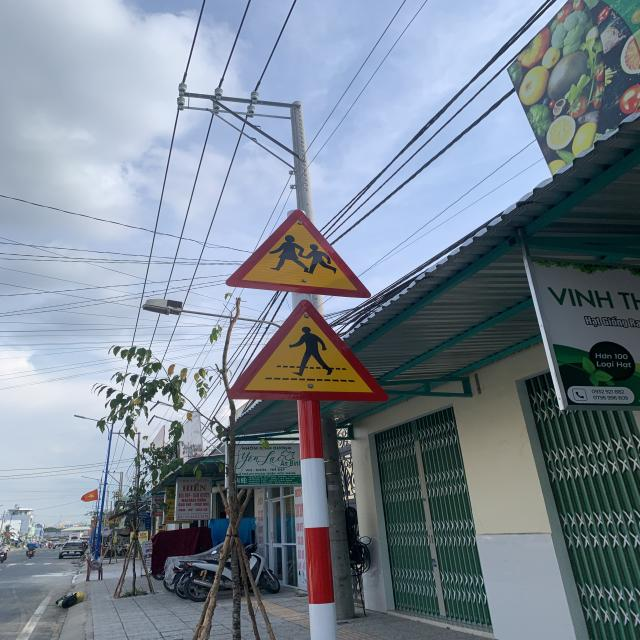Duong_Nguoi_Di_Bo_Sang_Ngang: (226, 300, 390, 402)
Vong_Xuyen: (224, 208, 371, 299)
